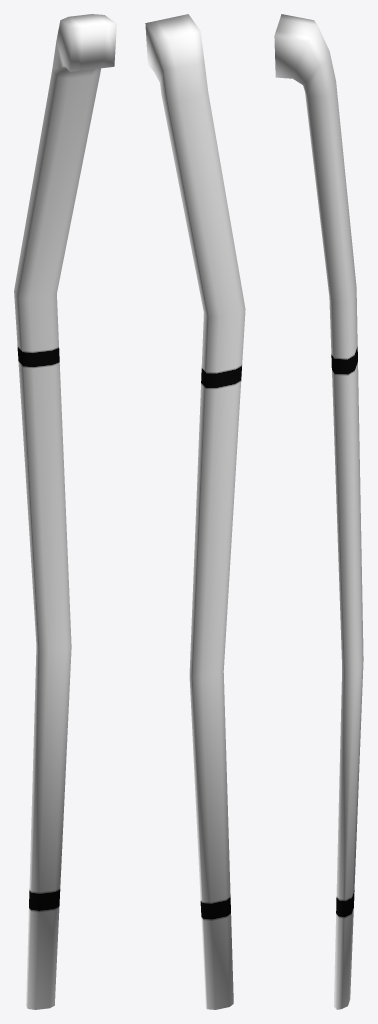
Rendered from Ranke_v6.fbx.
The picture shows the model from 3 angles, left to right: view 1: azimuth 30°, elevation 25°; view 2: azimuth 210°, elevation 25°; view 3: azimuth 270°, elevation 25°; orthographic projection. The views are drawn at different scales.
Visible parts, largest first — view 1: Ranke_v6; view 2: Ranke_v6; view 3: Ranke_v6.
Part boxes in pixels (bbox=[...]): Ranke_v6: bbox=[14, 14, 116, 1009]; Ranke_v6: bbox=[145, 14, 245, 1009]; Ranke_v6: bbox=[274, 14, 363, 1009].
Size of the model in its own units: 12.55 by 172 by 14.05.
